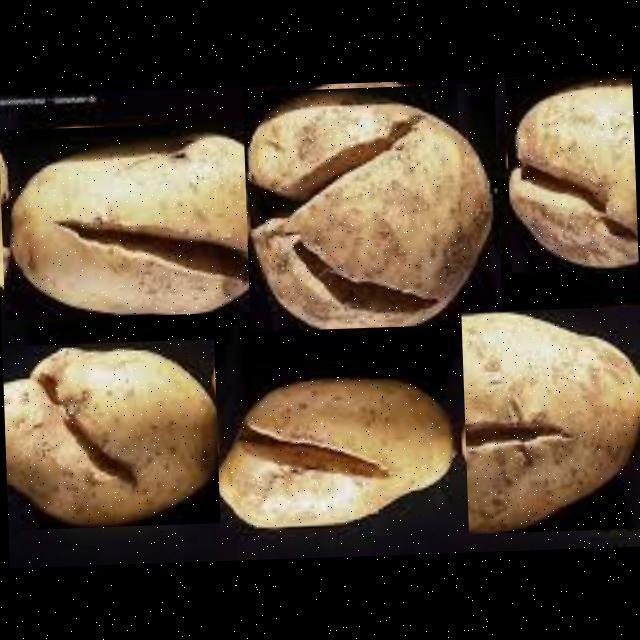Damaged potato: (241, 82, 501, 330), (0, 120, 259, 319), (1, 338, 219, 529), (459, 304, 640, 533), (210, 372, 458, 530), (504, 73, 638, 271)
